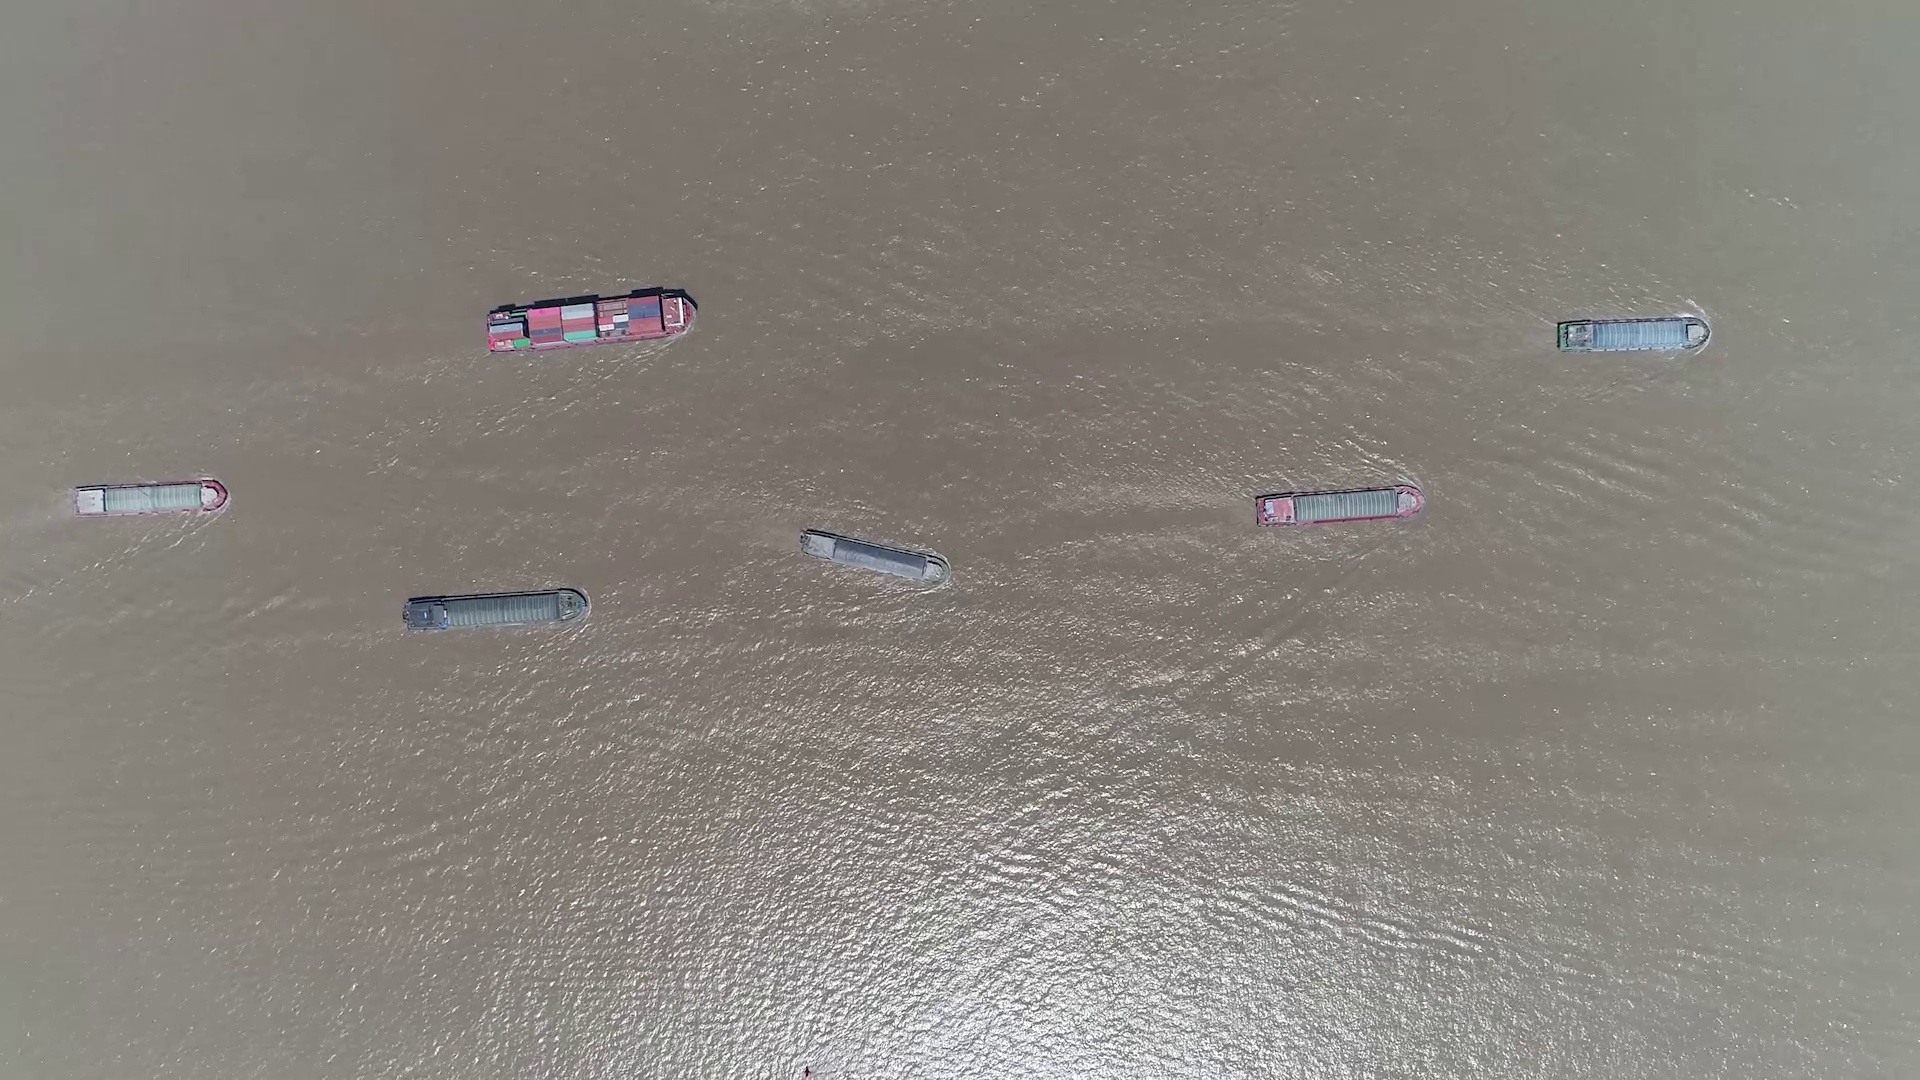ship: (487, 290, 698, 353), (800, 527, 951, 584), (404, 589, 589, 632), (1255, 484, 1424, 527), (73, 479, 225, 516), (1555, 318, 1708, 352)
